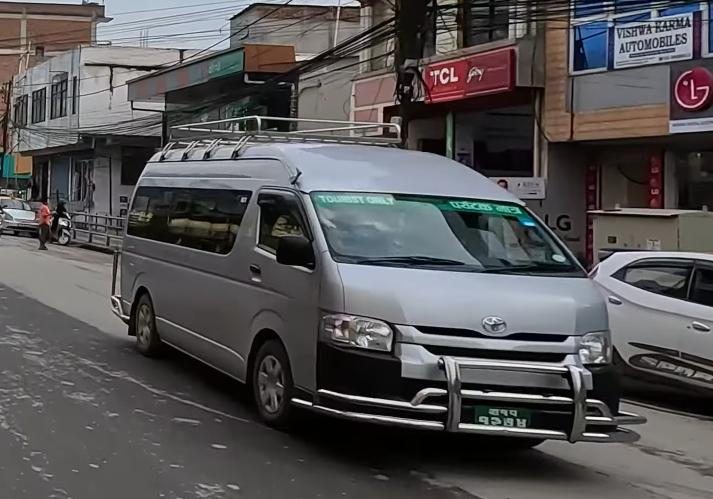micro_bus: (106, 114, 647, 465)
scooter: (46, 207, 74, 247)
taxi: (581, 243, 713, 403), (0, 195, 48, 237)
